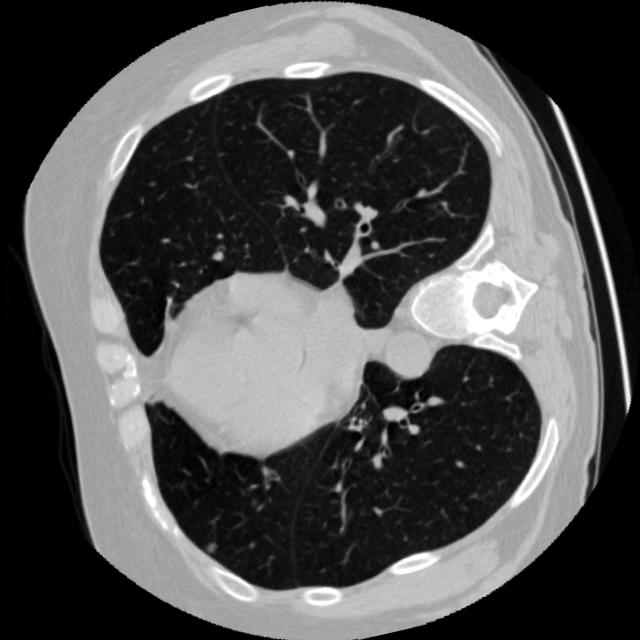nodule: (198, 532, 222, 556)
